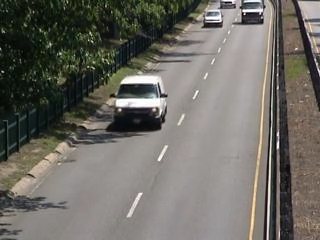car: (202, 9, 227, 31), (219, 1, 238, 11)
truck: (106, 75, 171, 133), (239, 1, 267, 24)
